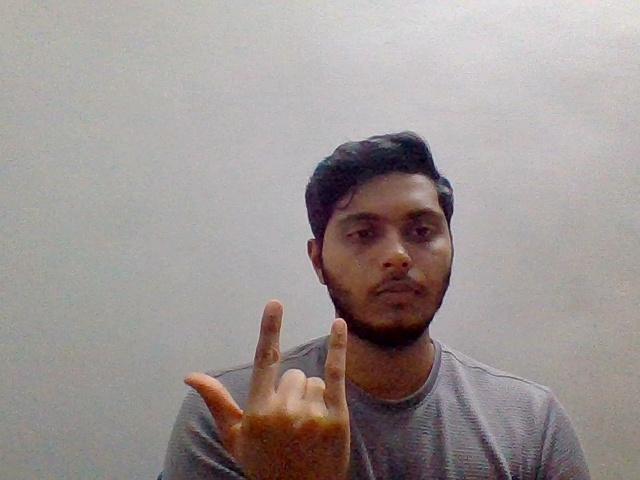I Love You: (179, 295, 376, 480)
